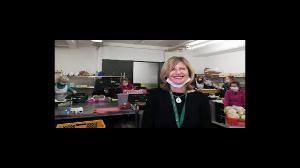mask_weared_incorrect: (170, 68, 189, 89)
with_mask: (230, 85, 239, 91), (59, 81, 67, 86), (123, 81, 129, 86), (197, 77, 203, 81), (225, 78, 231, 82)
